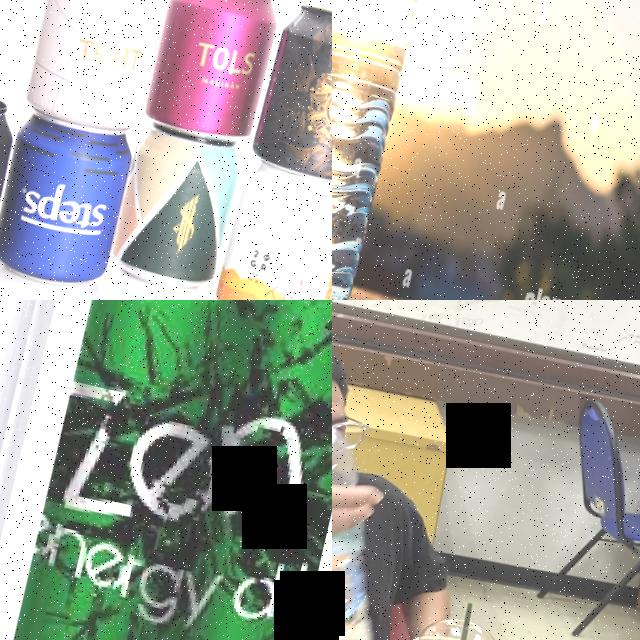bottle: (332, 0, 453, 300)
can: (0, 300, 332, 640), (0, 300, 94, 640), (0, 103, 139, 297), (105, 120, 248, 298), (16, 0, 177, 138), (140, 0, 285, 148), (210, 157, 332, 300), (249, 0, 332, 190)
cup: (384, 609, 516, 640)
